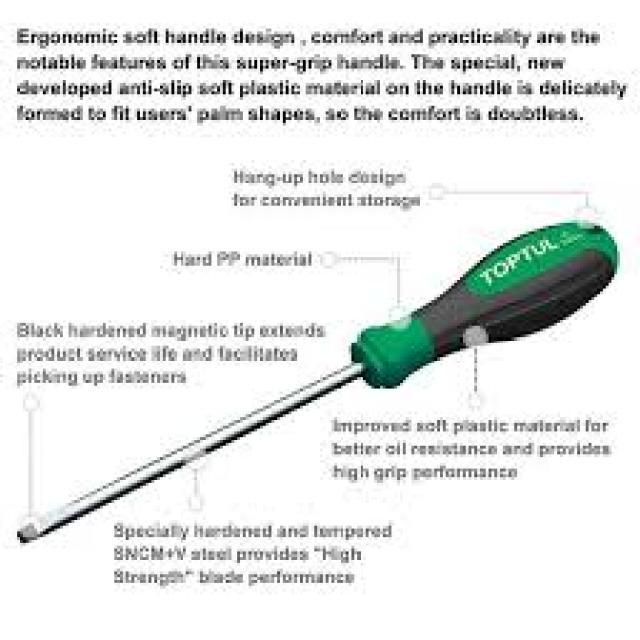screwdriver: (12, 217, 622, 549)
